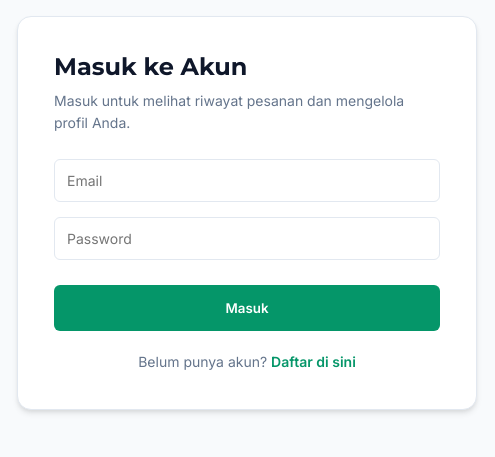
Login page validation › rejects empty password
Type "a@b.com" into the field with placeholder "Email". click: (247, 180)
box: [54, 159, 440, 202]
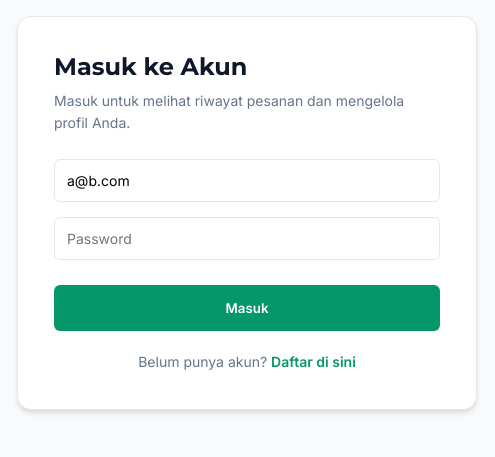
Submit the form with placeholder "Email", box [54, 159, 440, 331]
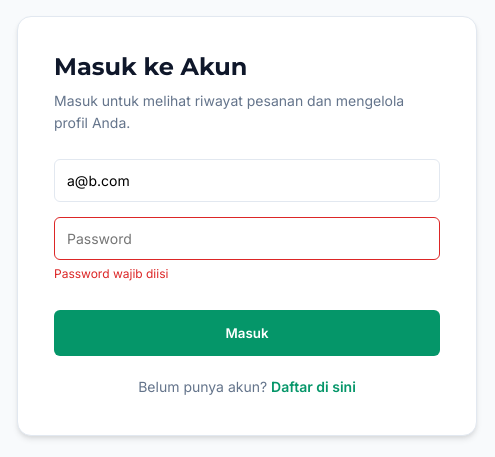
Result: the text "Password wajib diisi" is shown at [54, 266, 168, 281]
